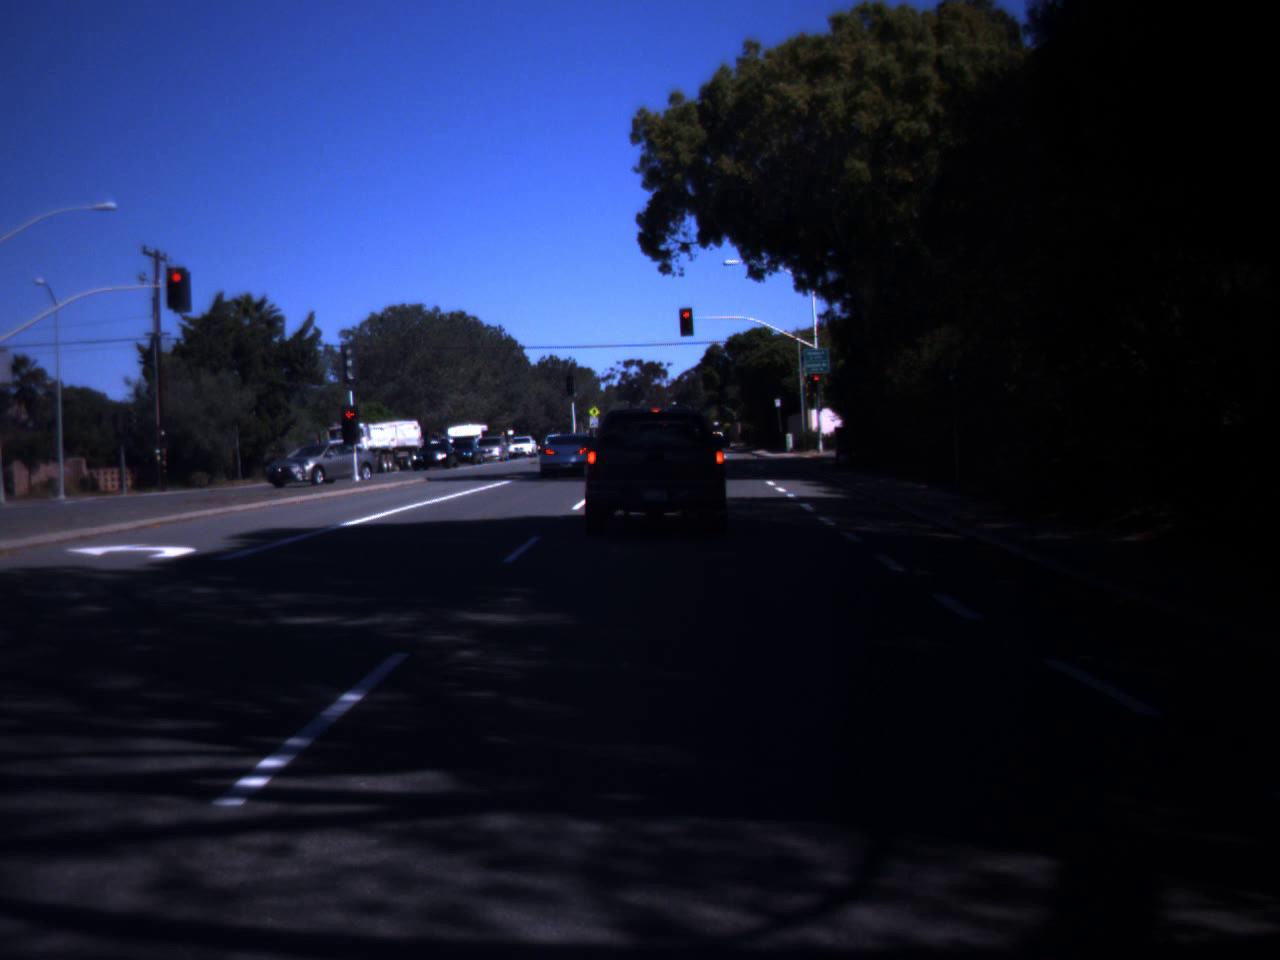stop: (338, 409, 362, 436), (168, 271, 186, 298), (680, 310, 692, 328)
